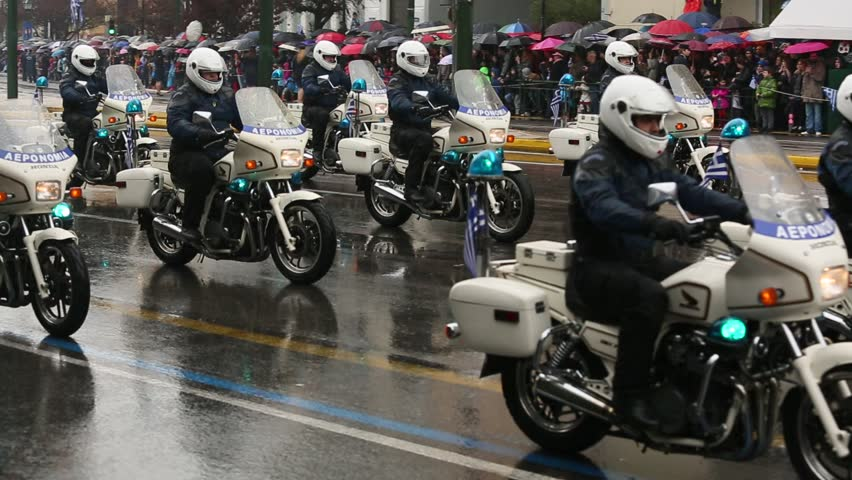helmet: (595, 76, 674, 157), (185, 47, 230, 93), (394, 39, 437, 81), (70, 41, 101, 75), (311, 37, 342, 69), (604, 39, 635, 71)
